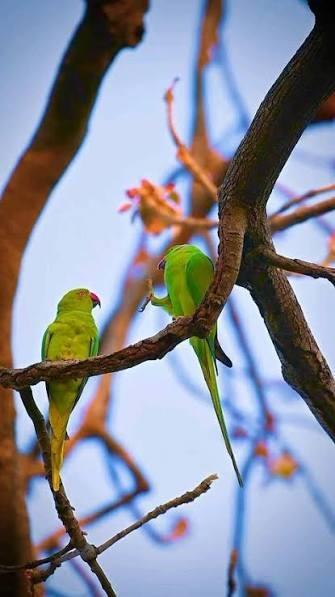non-dog: (149, 242, 241, 481), (41, 286, 99, 501)
